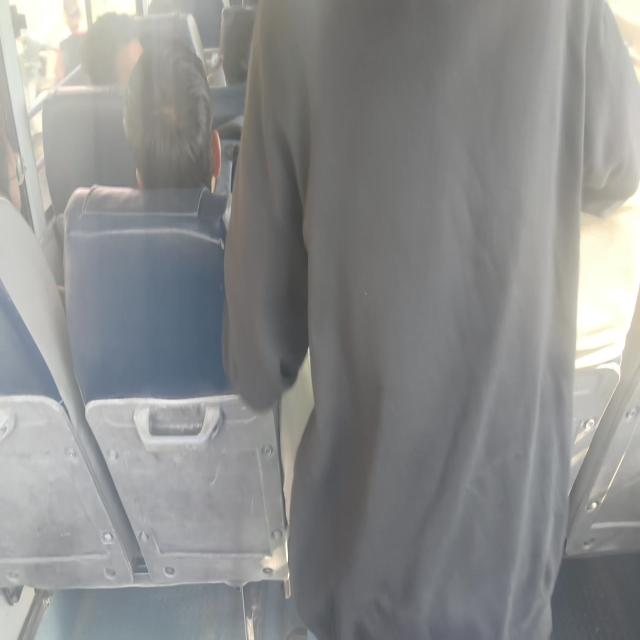person: (286, 0, 568, 630), (126, 64, 218, 180), (78, 23, 144, 94), (0, 119, 41, 224), (217, 15, 259, 86)
